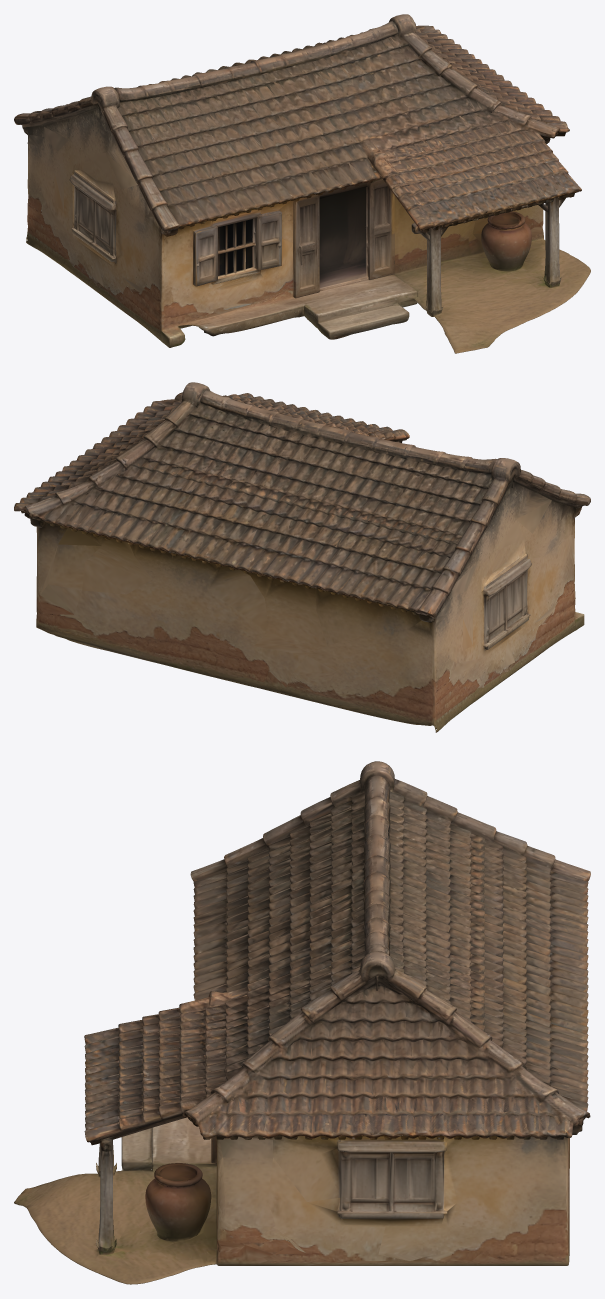
File: FarmhouseCompound.fbx
3 views of the same model, one above another, from view 1: azimuth 30°, elevation 25°; view 2: azimuth 150°, elevation 25°; view 3: azimuth 270°, elevation 25° (orthographic). The views are drawn at different scales.
Parts seen in each view (by area): view 1: Mesh_0; view 2: Mesh_0; view 3: Mesh_0.
Part boxes in pixels (left/top/right/bottom): Mesh_0: left=14, top=14, right=590, bottom=353; Mesh_0: left=14, top=382, right=590, bottom=732; Mesh_0: left=14, top=761, right=590, bottom=1284.
Size of the model in its own units: 87.24 by 44.64 by 81.23.
1 material, 1 textured.
